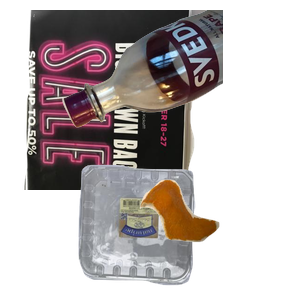glass: (60, 10, 300, 130)
paper: (22, 10, 225, 190)
plastic: (76, 162, 264, 300)
trash: (137, 177, 300, 300)
